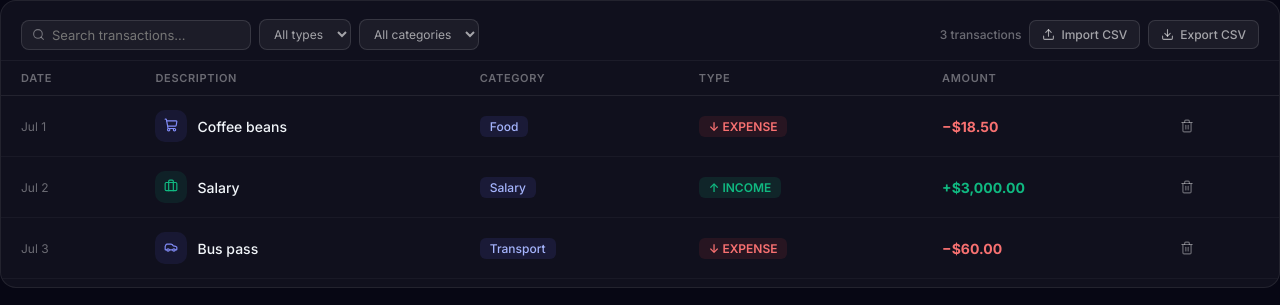
Test: TransactionTable filters › filters by search text
The width and height of the screenshot is (1280, 305).
Type "coffee" into the field with placeholder "Search transactions…" at (146, 34), box [52,26,240,42]
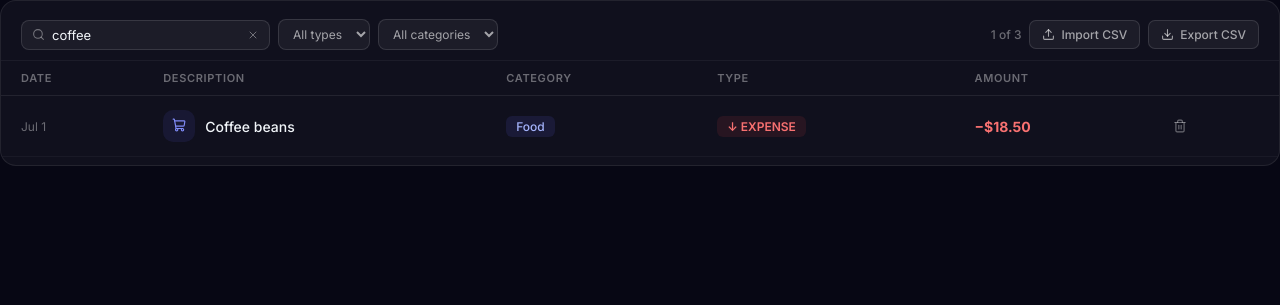
Expected: the text "Coffee beans" is shown, [205,118,295,134]
Now the text "Bus pass" is gone
Now the text "1 of 3" is shown, box [991,27,1021,42]
